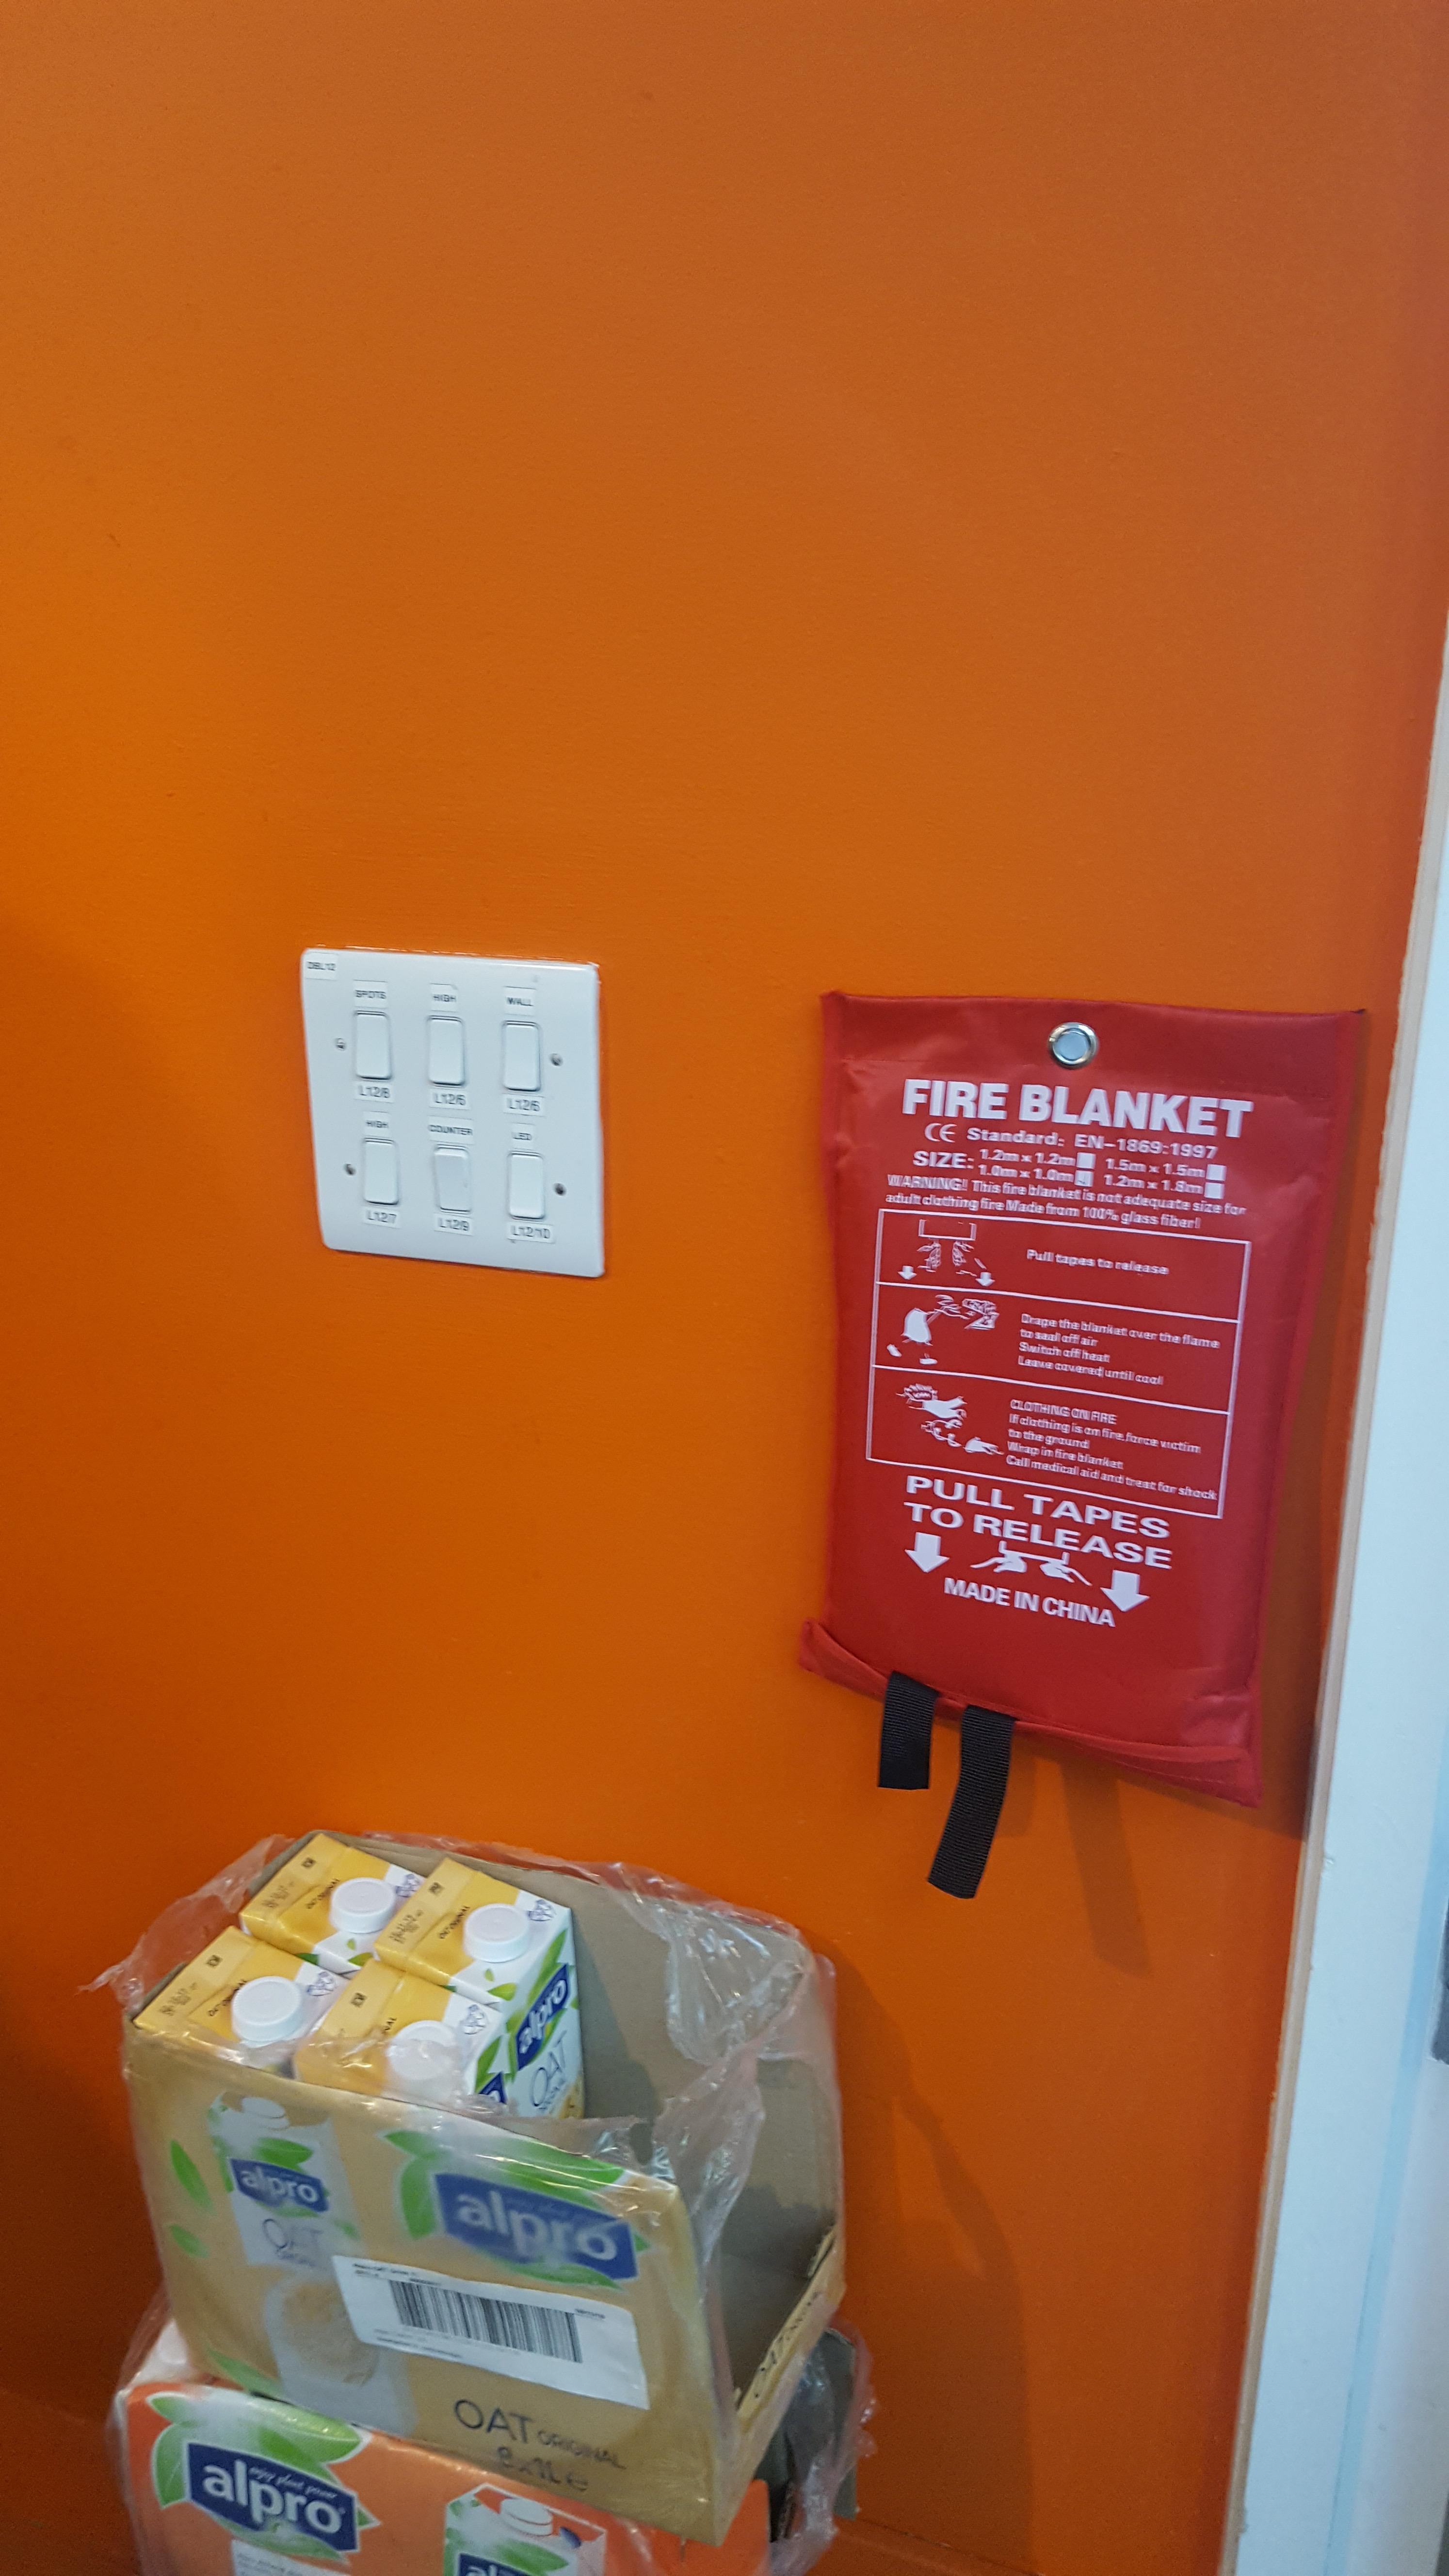blanket: (796, 991, 1369, 1808)
